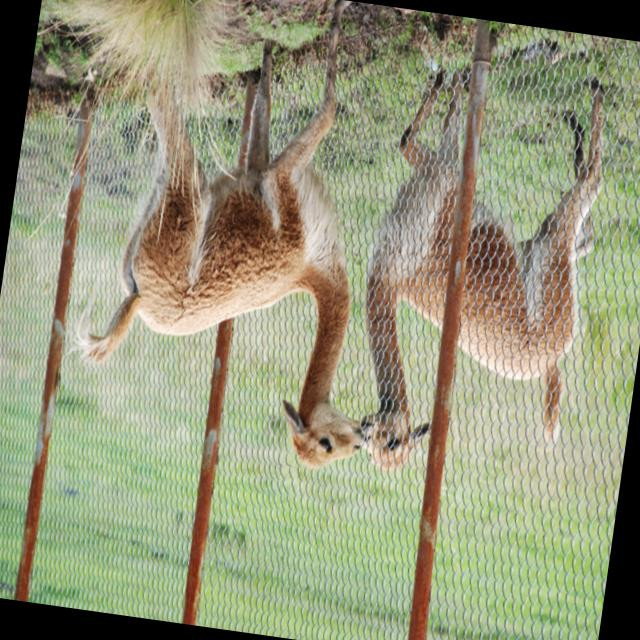alpaca: (65, 0, 420, 477), (336, 52, 620, 497)
